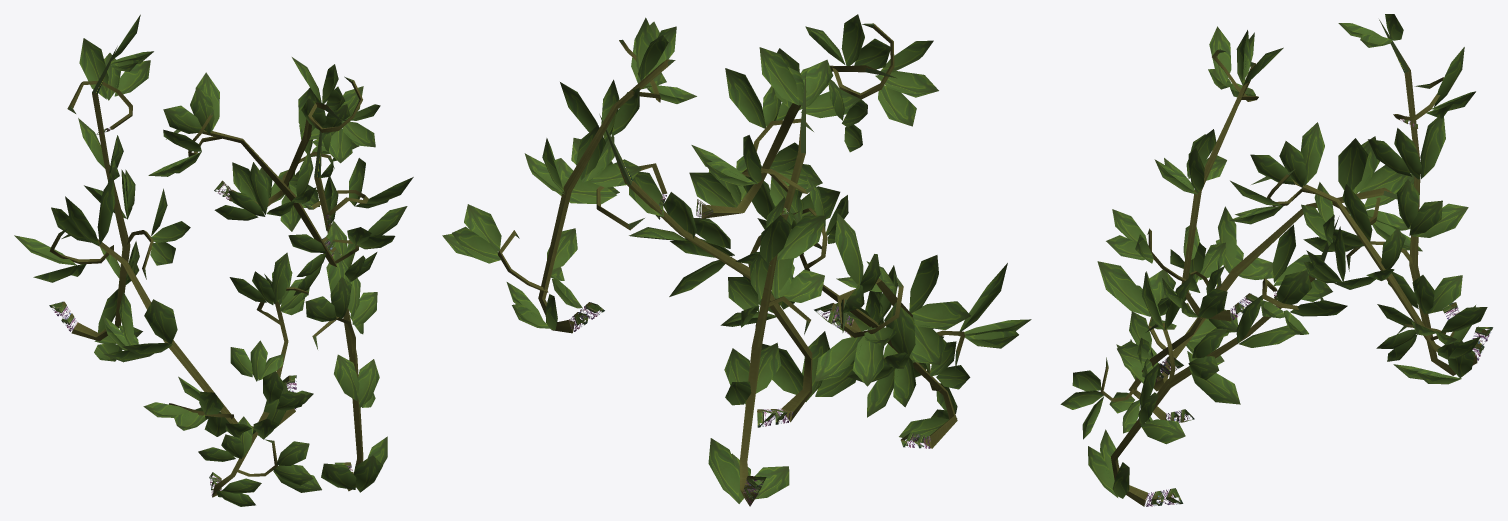
The model's file is Yland2_zb_05 Yland2.FBX.
3 renders of one model, left to right at view 1: azimuth 30°, elevation 25°; view 2: azimuth 150°, elevation 25°; view 3: azimuth 270°, elevation 25°, orthographic. The views are drawn at different scales.
Visible parts, largest first — view 1: Yland2_zb_05 Yland2; view 2: Yland2_zb_05 Yland2; view 3: Yland2_zb_05 Yland2.
Boxes of the visible parts, <box> form: Yland2_zb_05 Yland2: <box>14,14,413,506</box>; Yland2_zb_05 Yland2: <box>442,14,1031,506</box>; Yland2_zb_05 Yland2: <box>1060,14,1493,506</box>.
Size of the model in its own units: 7.61 by 8.72 by 7.69.
